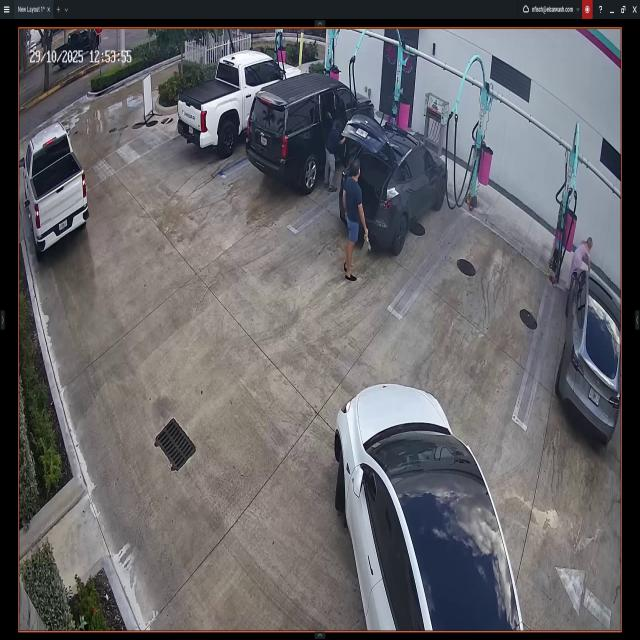Car: (334, 370, 523, 629), (246, 68, 374, 196), (337, 116, 448, 257), (179, 53, 301, 154), (554, 267, 622, 439), (20, 120, 89, 254)
